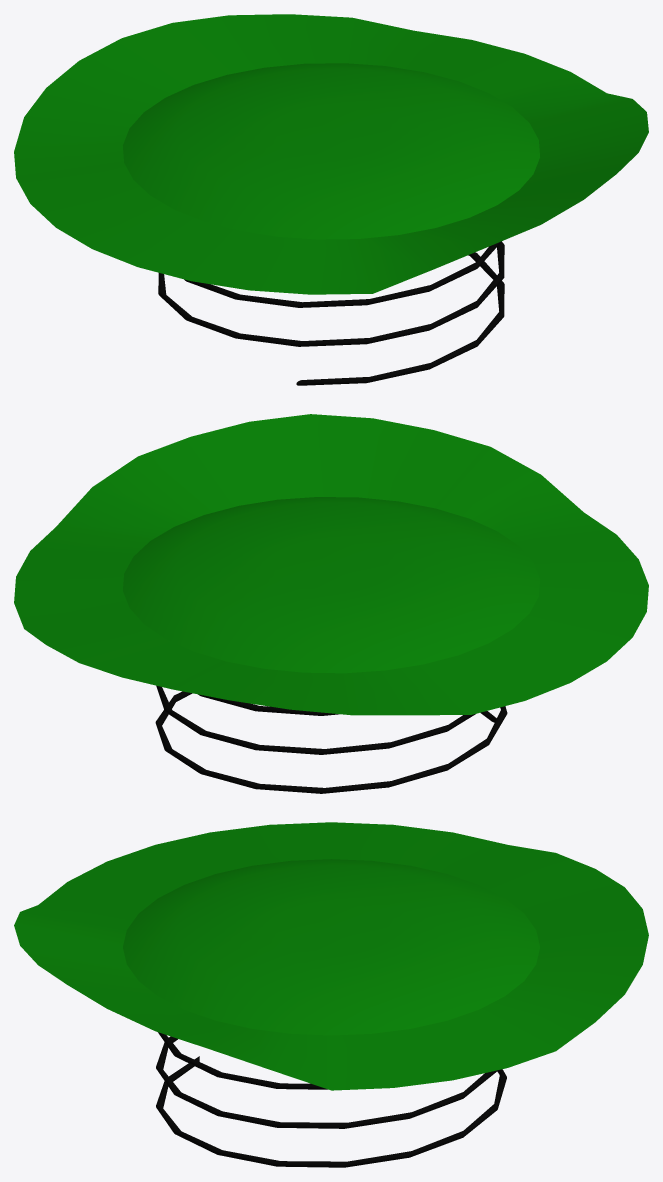
The model's file is NEW JUMP HAT.fbx.
3 views of the same model, one above another, from view 1: azimuth 30°, elevation 25°; view 2: azimuth 150°, elevation 25°; view 3: azimuth 270°, elevation 25° (orthographic).
Parts seen in each view (by area): view 1: JUMP HAT; view 2: JUMP HAT; view 3: JUMP HAT.
Part boxes in pixels (<box>): JUMP HAT: <box>14,14,648,385</box>; JUMP HAT: <box>14,414,648,793</box>; JUMP HAT: <box>14,822,648,1167</box>.
Size of the model in its own units: 209 by 72.16 by 209.
